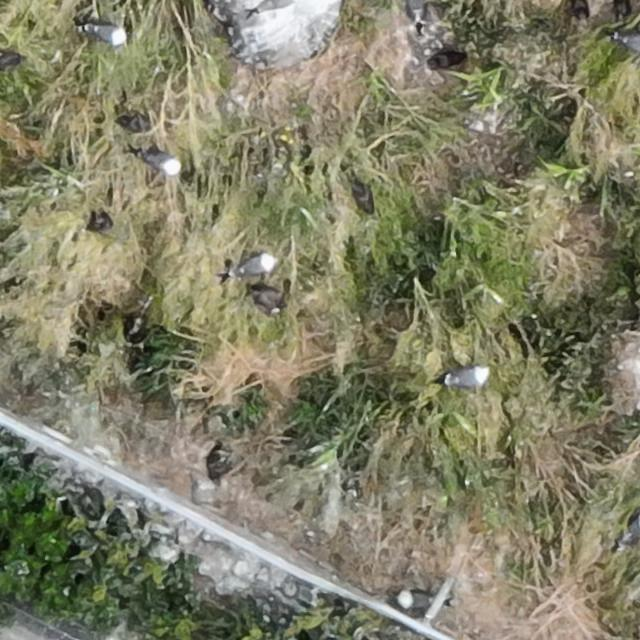umineko: (449, 366, 488, 386), (88, 24, 125, 44), (144, 154, 180, 174), (236, 255, 272, 275), (398, 592, 430, 613), (623, 509, 639, 542), (619, 35, 640, 55), (408, 2, 426, 24)
